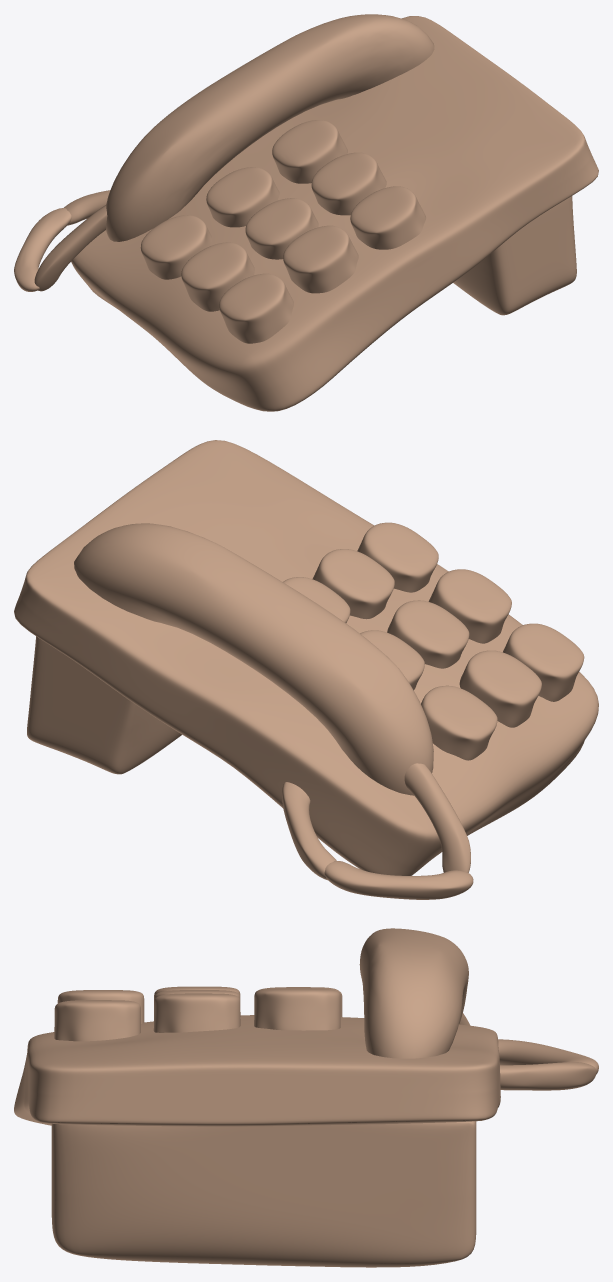
File: Telefone.fbx
3 renders of one model, top to bottom at view 1: azimuth 30°, elevation 25°; view 2: azimuth 150°, elevation 25°; view 3: azimuth 270°, elevation 25°, orthographic. The views are drawn at different scales.
Visible parts, largest first — view 1: cube, sphere1, cube1, cube10, cube7, cube4, cube9, cube2, cube3, cube8, cube5, cube6 (+3 smaller); view 2: cube, sphere1, cube1, cube9, cube8, cube7, cube10, cube6, cube3, sphere3, cube4, sphere2 (+3 smaller); view 3: cube1, cube, sphere1, cube2, cube4, cube3, sphere4, sphere3, cube7.
Part boxes in pixels (left/top/right/bottom): cube: left=71, top=16, right=598, bottom=411; sphere1: left=106, top=14, right=434, bottom=241; cube1: left=453, top=196, right=576, bottom=315; cube10: left=219, top=273, right=293, bottom=343; cube7: left=283, top=225, right=358, bottom=293; cube4: left=350, top=186, right=425, bottom=249; cube9: left=181, top=242, right=254, bottom=311; cube2: left=272, top=120, right=347, bottom=183; cube3: left=311, top=152, right=386, bottom=215; cube8: left=140, top=215, right=212, bottom=279; cube5: left=206, top=167, right=279, bottom=227; cube6: left=245, top=198, right=318, bottom=259; cube: left=14, top=440, right=598, bottom=875; sphere1: left=74, top=523, right=433, bottom=795; cube1: left=27, top=636, right=181, bottom=774; cube9: left=459, top=650, right=541, bottom=727; cube8: left=421, top=685, right=497, bottom=760; cube7: left=428, top=569, right=511, bottom=643; cube10: left=503, top=623, right=584, bottom=701; cube6: left=387, top=600, right=469, bottom=668; cube3: left=312, top=549, right=394, bottom=619; sphere3: left=324, top=860, right=473, bottom=899; cube4: left=357, top=522, right=438, bottom=592; sphere2: left=404, top=763, right=470, bottom=872; cube1: left=51, top=1121, right=476, bottom=1267; cube: left=14, top=1015, right=500, bottom=1126; sphere1: left=359, top=928, right=468, bottom=1058; cube2: left=254, top=988, right=340, bottom=1030; cube4: left=54, top=1000, right=140, bottom=1041; cube3: left=153, top=993, right=240, bottom=1032; sphere4: left=500, top=1062, right=596, bottom=1090; sphere3: left=498, top=1039, right=598, bottom=1074; cube7: left=57, top=990, right=144, bottom=1023.
Size of the model in its own units: 194 by 110 by 187.
